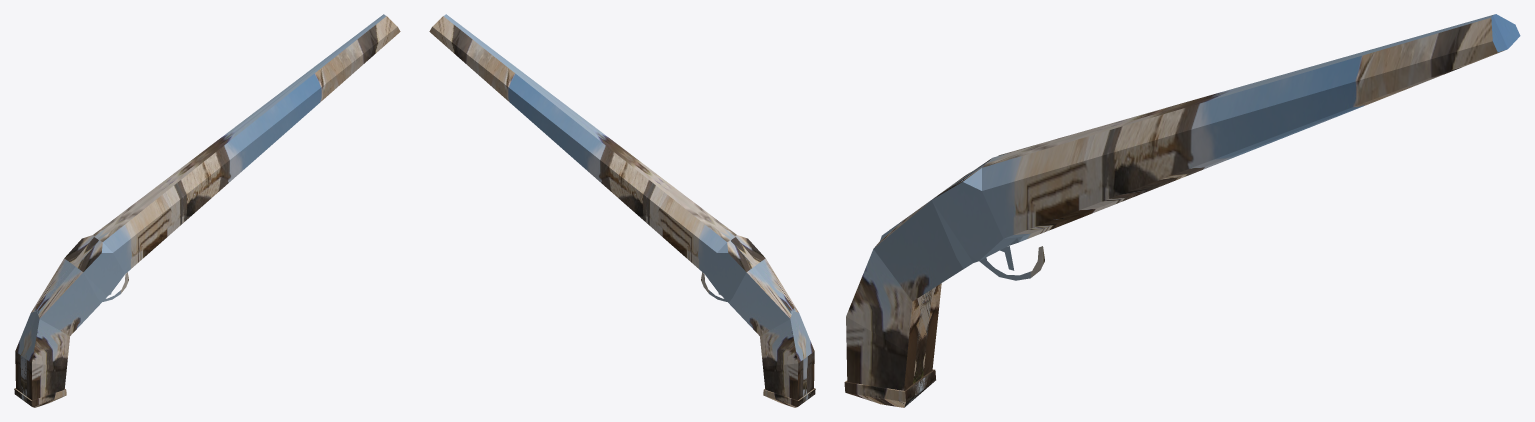
Rendered from shotgun.obj.
3 views of the same model, side by side, from view 1: azimuth 30°, elevation 25°; view 2: azimuth 150°, elevation 25°; view 3: azimuth 330°, elevation 25° (orthographic). The views are drawn at different scales.
Parts seen in each view (by area): view 1: Cube_Cube.001; view 2: Cube_Cube.001; view 3: Cube_Cube.001.
Boxes of the visible parts, x1,y1,x2,y2 form: Cube_Cube.001: (14,14,400,407); Cube_Cube.001: (429,14,815,407); Cube_Cube.001: (844,14,1520,407).
Bounding box in the file's own units: 2.62 × 2.07 × 0.245.
